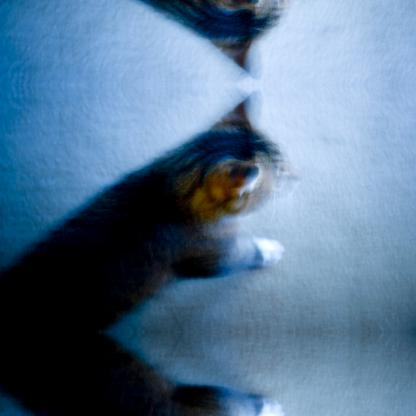Cat: (1, 86, 300, 330), (1, 0, 301, 83), (1, 332, 301, 415)
